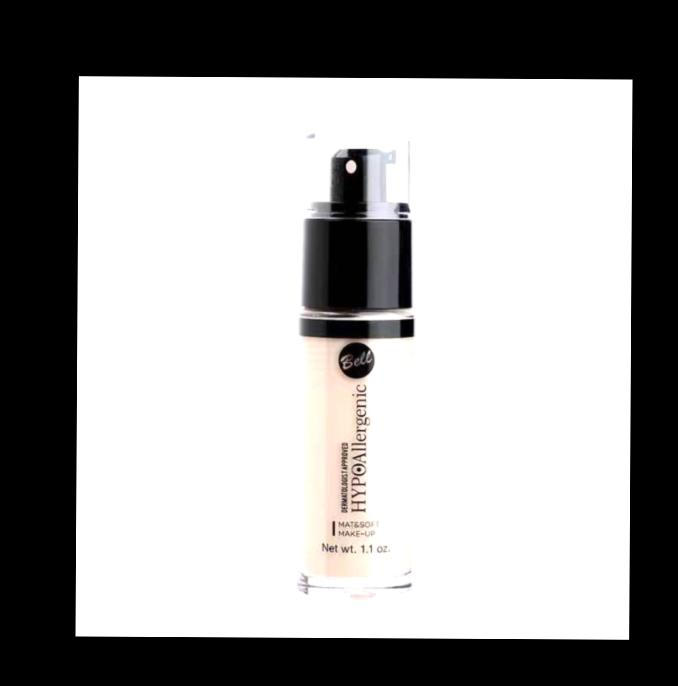cosmetic: (296, 131, 415, 600)
